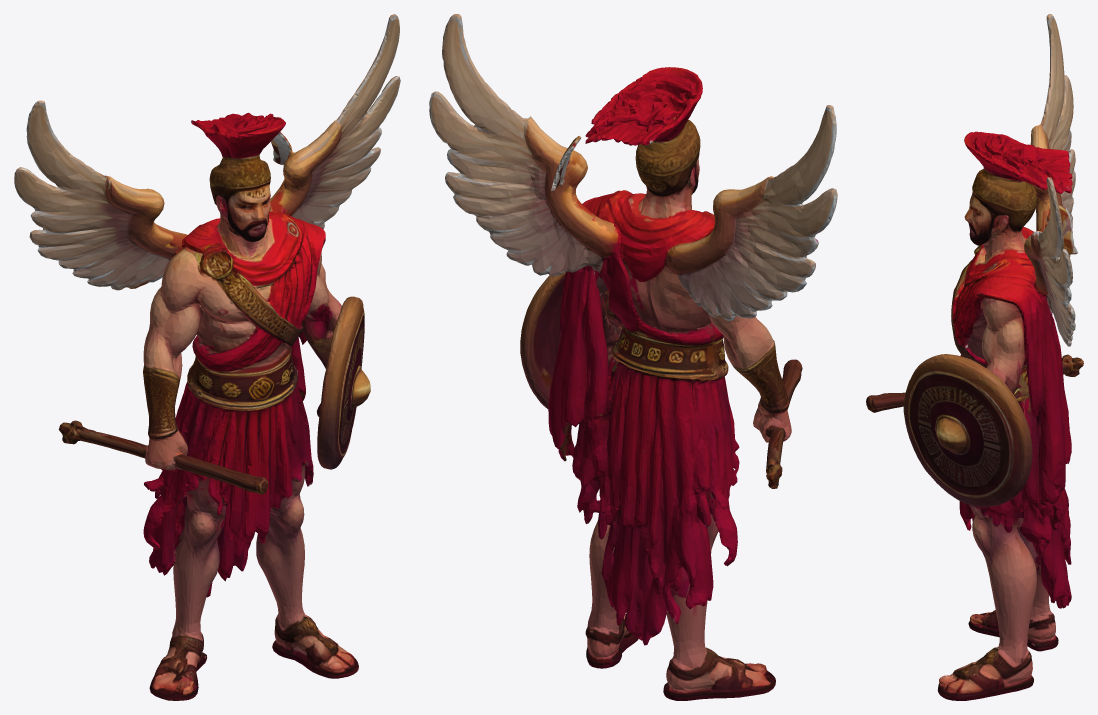
3 renders of one model, left to right at view 1: azimuth 30°, elevation 25°; view 2: azimuth 150°, elevation 25°; view 3: azimuth 270°, elevation 25°, orthographic. The views are drawn at different scales.
Parts seen in each view (by area): view 1: textured_mesh.obj; view 2: textured_mesh.obj; view 3: textured_mesh.obj.
Part boxes in pixels (x1=…): textured_mesh.obj: x1=14, y1=14, x2=400, y2=700; textured_mesh.obj: x1=429, y1=14, x2=837, y2=700; textured_mesh.obj: x1=866, y1=14, x2=1083, y2=700.
Size of the model in its own units: 1.35 by 1.99 by 0.6964.
Materials: 1 (1 with a texture image).
